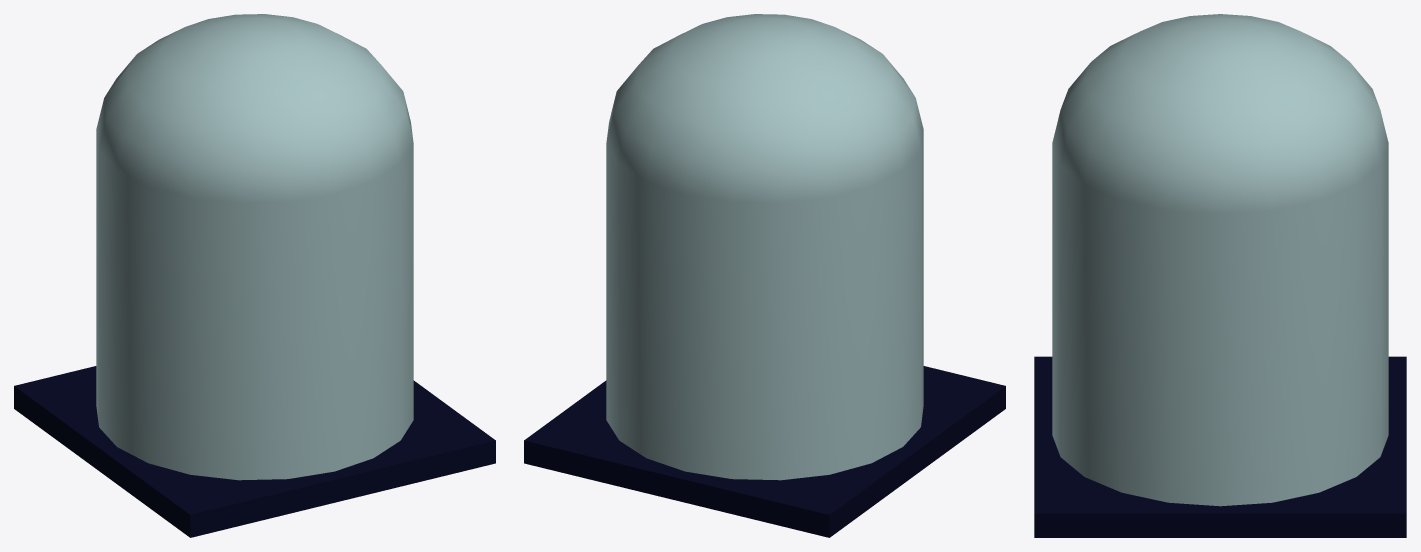
File: Gravity_Case.fbx
3 renders of one model, left to right at view 1: azimuth 30°, elevation 25°; view 2: azimuth 150°, elevation 25°; view 3: azimuth 270°, elevation 25°, orthographic. The views are drawn at different scales.
Visible parts, largest first — view 1: pCylinder11, pCube38; view 2: pCylinder11, pCube38; view 3: pCylinder11, pCube38.
Boxes of the visible parts, x1,y1,x2,y2 form: pCylinder11: [96, 14, 413, 480]; pCube38: [14, 366, 495, 537]; pCylinder11: [606, 14, 923, 480]; pCube38: [524, 366, 1005, 537]; pCylinder11: [1052, 14, 1388, 506]; pCube38: [1034, 356, 1406, 537].
Size of the model in its own units: 16.7 by 21.01 by 16.7.
